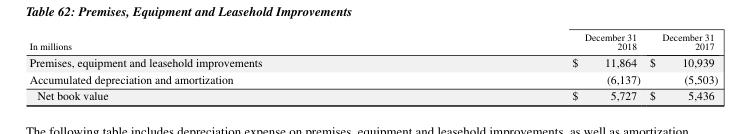table: (28, 29, 717, 102)
table column: (28, 29, 416, 102), (416, 29, 644, 102), (644, 29, 717, 102)
table column header: (28, 29, 717, 52)
table row: (28, 29, 717, 52), (28, 52, 717, 69), (28, 69, 717, 86), (28, 86, 717, 102)
